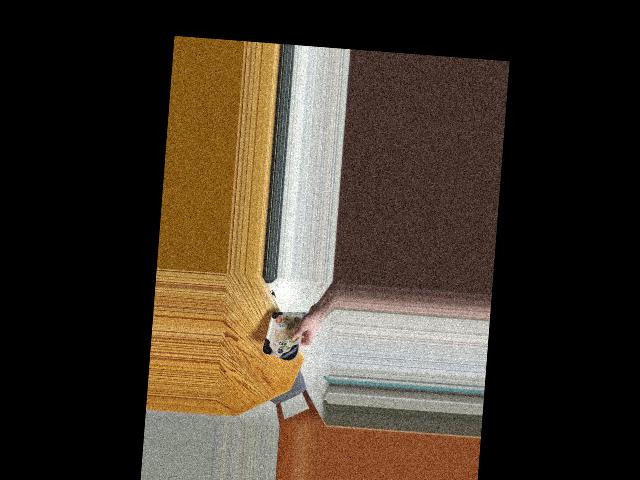cheese: (263, 298, 305, 363)
